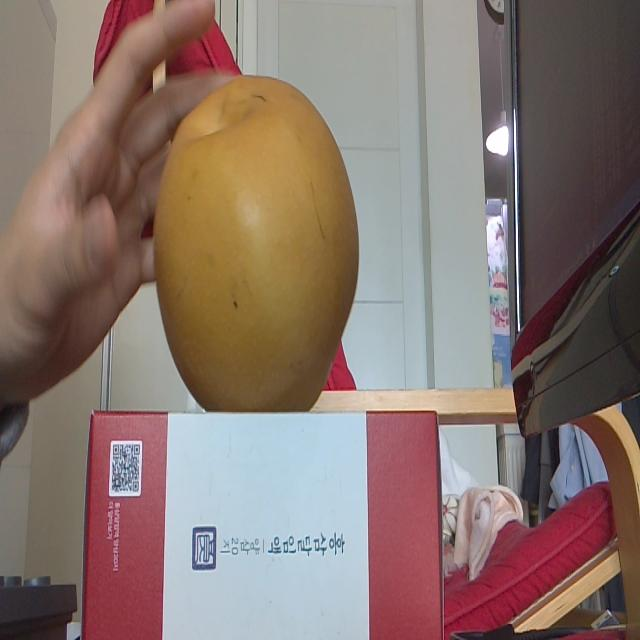pear: (157, 76, 359, 410)
